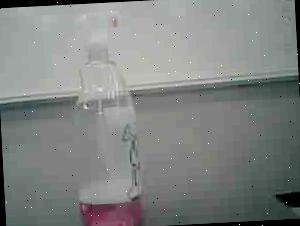hazard: (57, 5, 157, 226)
